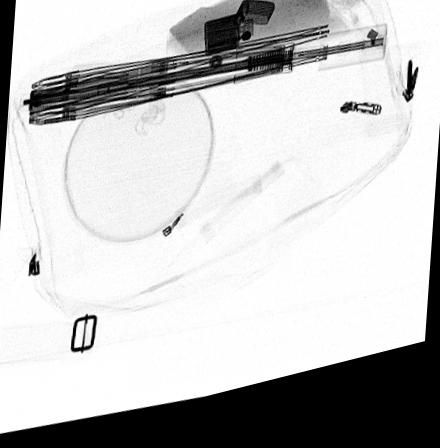Lighter: (203, 10, 275, 66)
